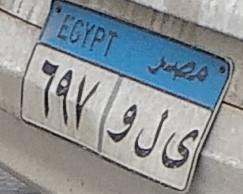6: (31, 59, 61, 115)
7: (68, 63, 105, 127)
9: (55, 61, 77, 123)
ل: (129, 103, 174, 157)
و: (102, 98, 146, 140)
ي: (156, 120, 205, 174)
